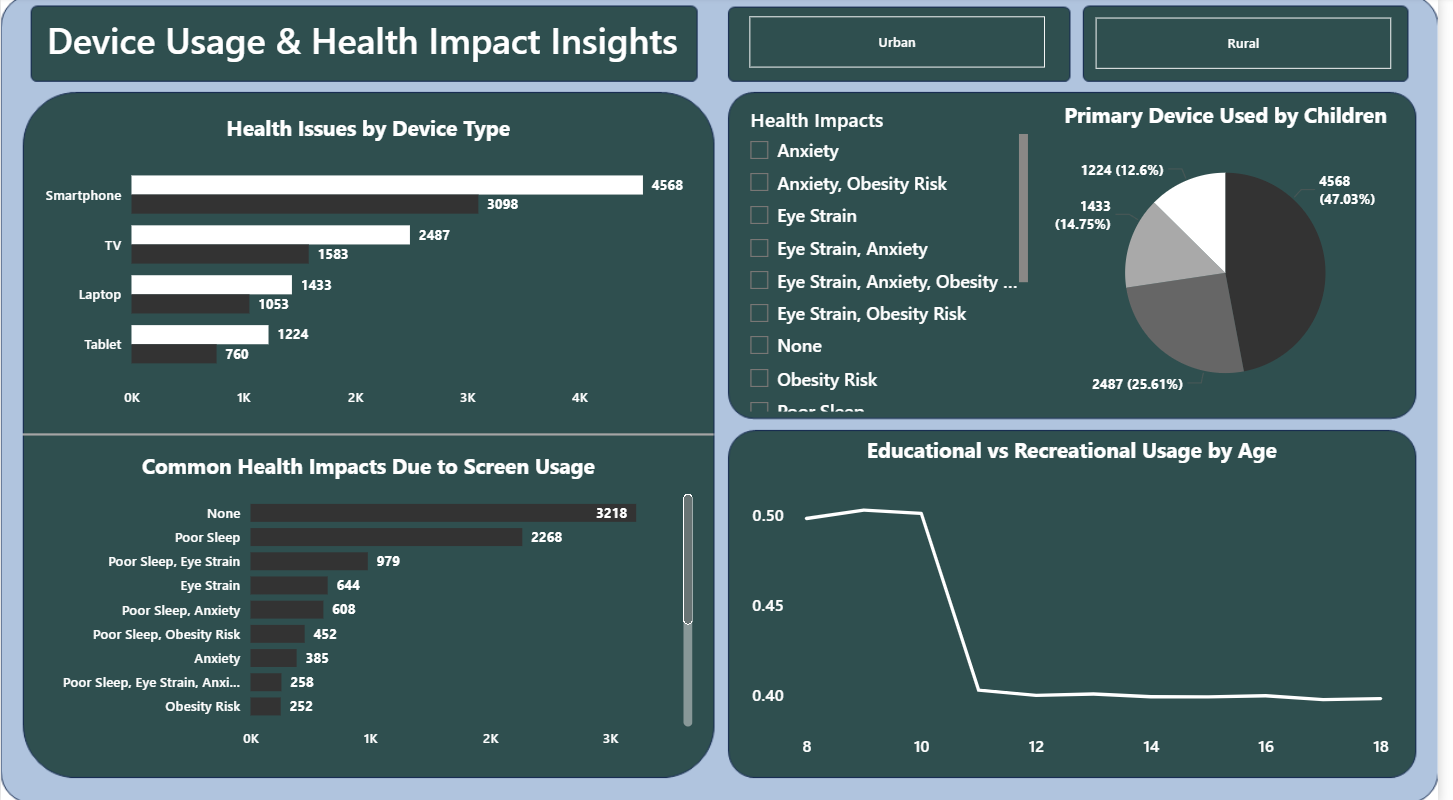

This screenshot's page, from the dashboard's own definition file:
{"tool":"powerbi","page":{"name":" Device & Health Impact Insights","canvas":[1280,720],"ordinal":1},"visuals":[{"type":"pieChart","title":" Primary Device Used by Children","fields":{"Category":["Table.Primary_Device"],"Y":["Table.Total_Children"]},"box":[919.9,92.8,342.1,282.2],"z":0},{"type":"barChart","title":"Common Health Impacts Due to Screen Usage","fields":{"Category":["Table.Health_Impacts"],"Y":["Table.Total_Children"]},"box":[33,405.6,587.6,273.6],"z":1000},{"type":"clusteredBarChart","title":"Health Issues by Device Type","fields":{"Category":["Table.Primary_Device"],"Y":["CountNonNull(Table.Health_Impacts)","Table.Children_With_Health_Issues"]},"box":[33,103.8,587.6,271.2],"z":2000},{"type":"lineChart","title":"Educational vs Recreational Usage by Age","fields":{"Y":["Table.Avg_Edu_Recreational_Ratio"],"Category":["Table.Age"]},"box":[663.3,390.9,580.3,296.9],"z":3000},{"type":"slicer","fields":{"Values":["Table.Urban_or_Rural"]},"box":[640.1,9.8,314,59.9],"z":4000},{"type":"slicer","fields":{"Values":["Table.Health_Impacts"]},"box":[654.8,92.8,265.1,282.2],"z":5000},{"type":"slicer","fields":{"Values":["Table.Urban_or_Rural"]},"box":[948,11,314,59.9],"z":6000},{"type":"textbox","box":[32.6,10.9,579.1,59.1],"z":7000}]}

Visuals, with their boxes in screenshot pixels (x1, y1, x2, y2), scaled from the page's 1280x720 canvas onto the 1453x800 screenshot:
" Primary Device Used by Children" pieChart: 1044,103,1433,417
"Common Health Impacts Due to Screen Usage" barChart: 37,451,704,755
"Health Issues by Device Type" clusteredBarChart: 37,115,704,417
"Educational vs Recreational Usage by Age" lineChart: 753,434,1412,764
slicer - Table.Urban_or_Rural: 727,11,1083,77
slicer - Table.Health_Impacts: 743,103,1044,417
slicer - Table.Urban_or_Rural: 1076,12,1433,79
textbox: 37,12,694,78
